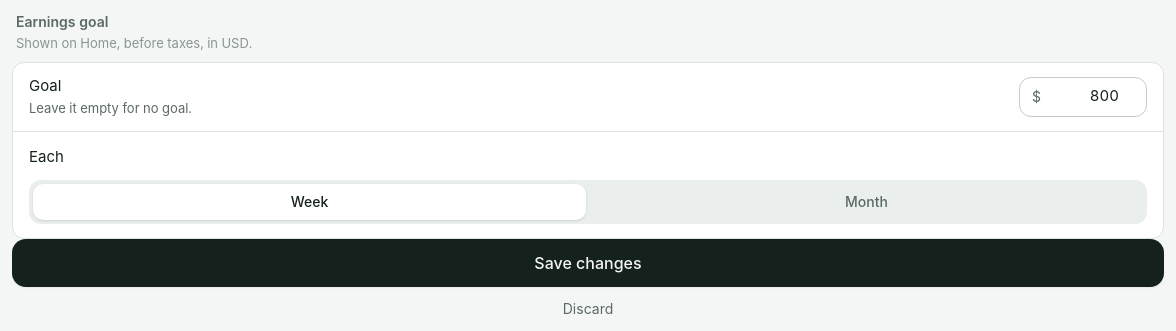
Scenario: Settings save bar › your details are saved with the same button
Click the button "Save changes" at {"x": 588, "y": 263}, box [12,239,1164,287]
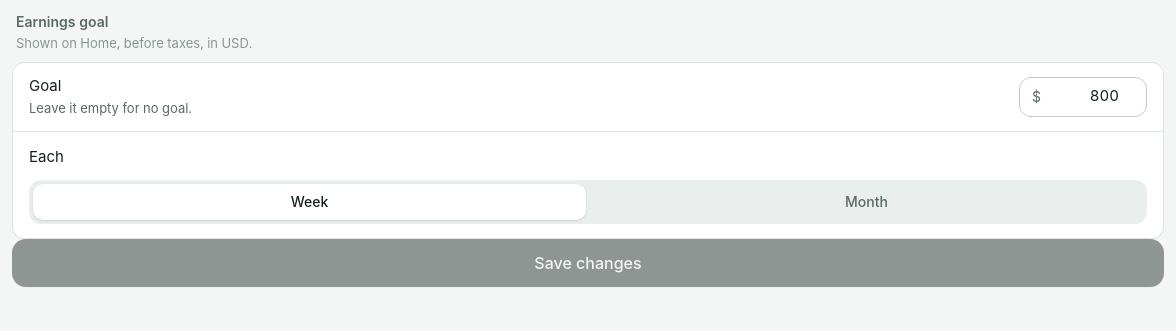
Expected: the button "Save changes" is disabled, [12,239,1164,287]
